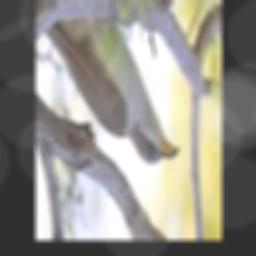Cuckoo: (43, 17, 179, 165)
